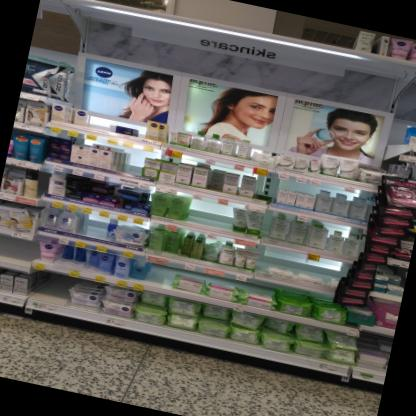empty_space: (261, 246, 340, 283), (184, 194, 236, 230), (28, 268, 73, 303), (0, 230, 41, 264), (141, 259, 177, 288), (120, 145, 146, 177), (84, 107, 114, 134)
